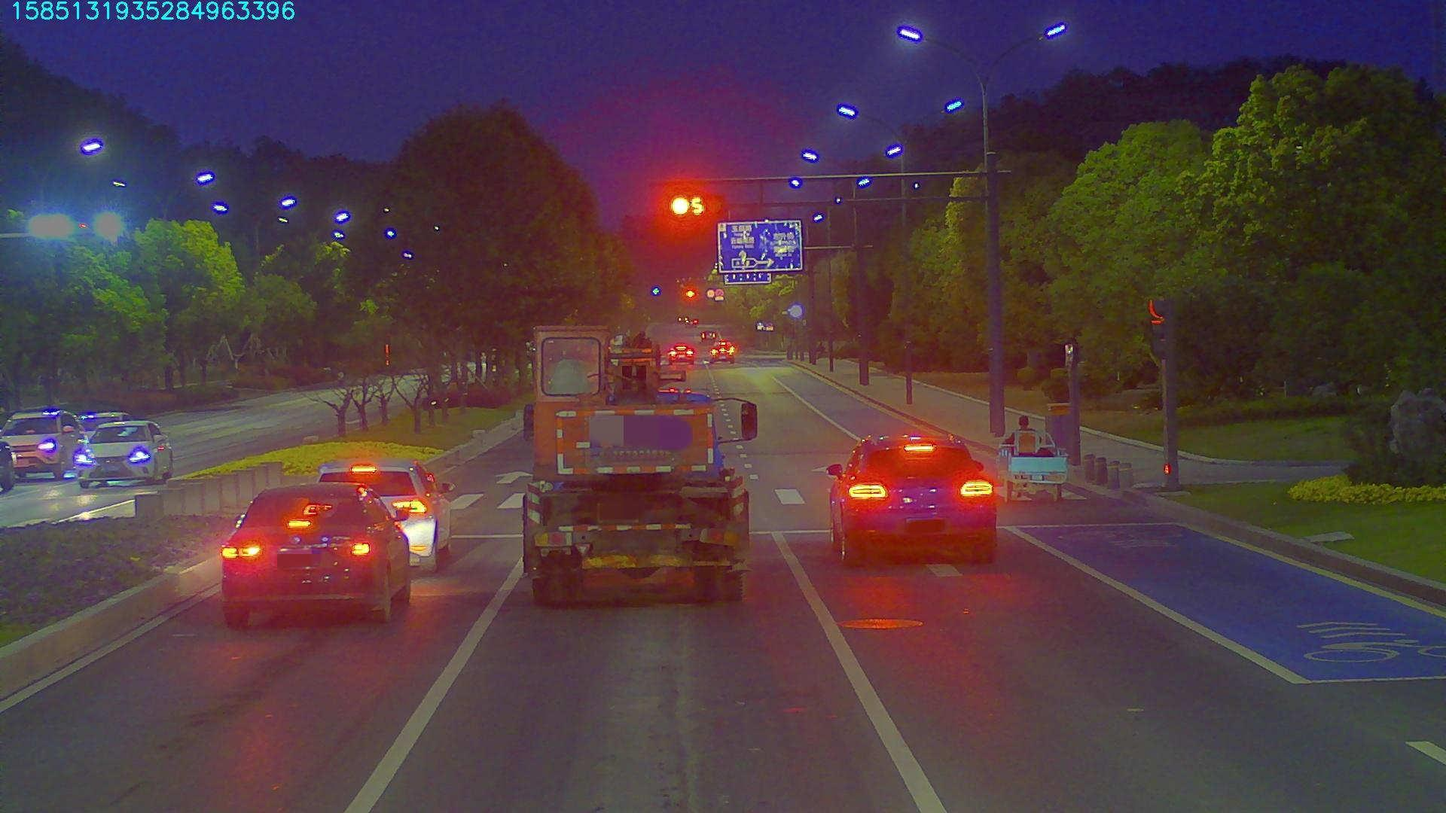red: (662, 184, 717, 230)
